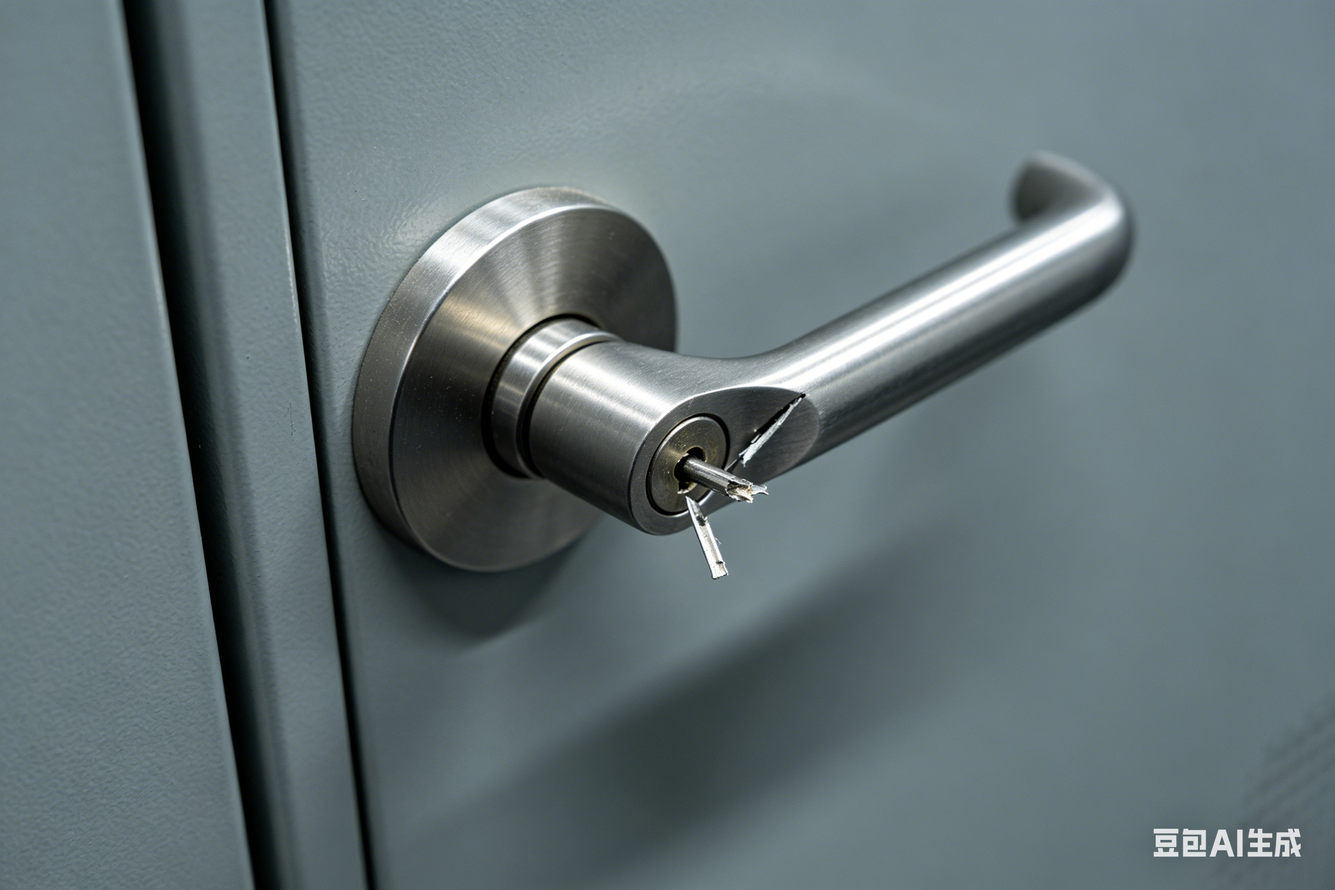BadLock: (643, 394, 810, 516)
